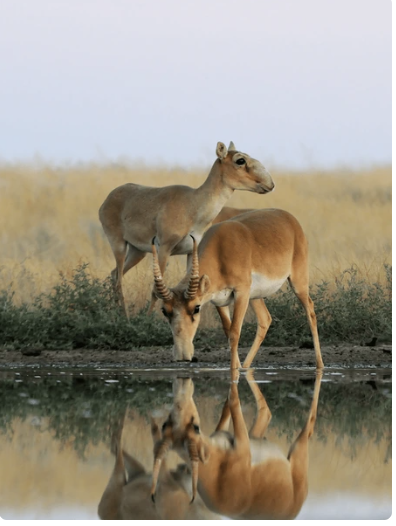saiga: (147, 202, 324, 383), (99, 141, 265, 316)
